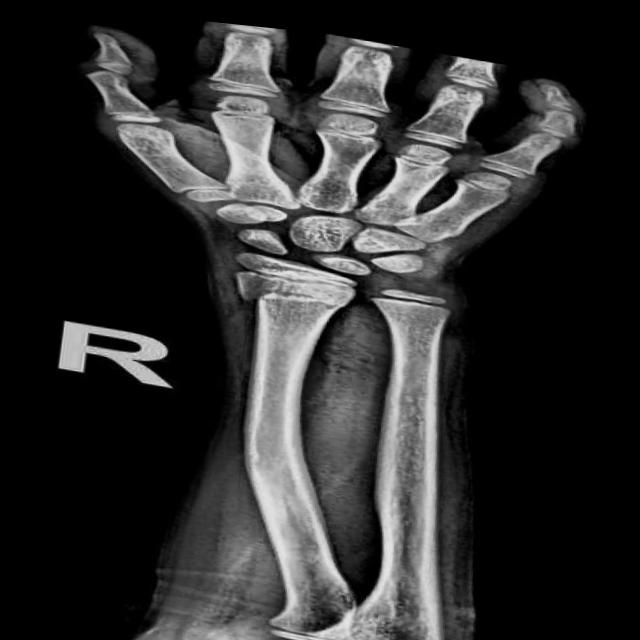fracture: (234, 274, 351, 313)
